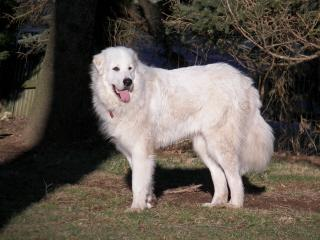Great_Pyrenees: (90, 46, 273, 211)
